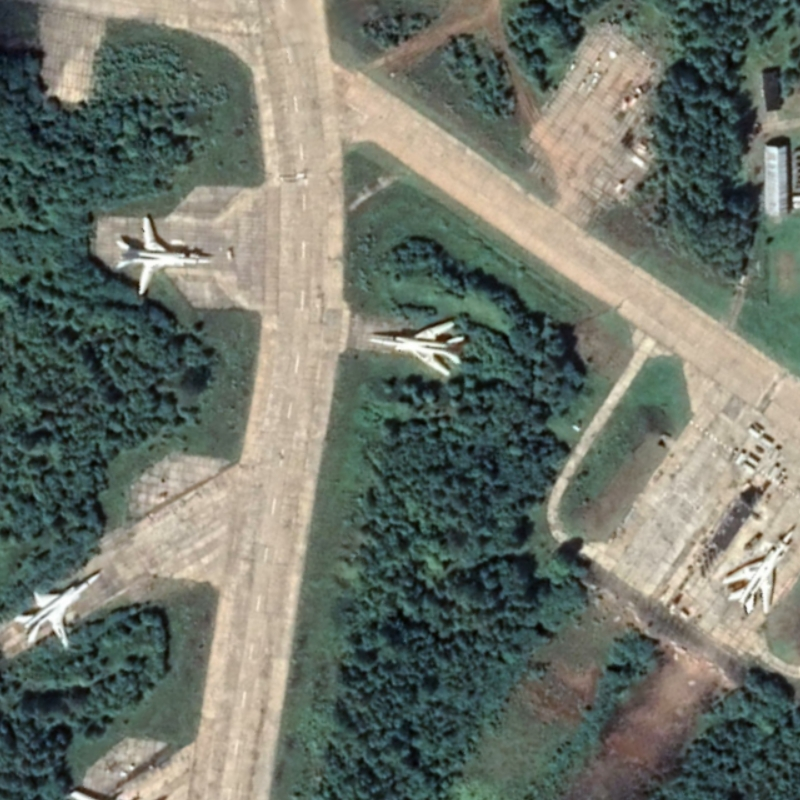A12: (110, 212, 216, 299), (12, 568, 106, 652), (716, 522, 796, 619), (365, 319, 469, 379)
